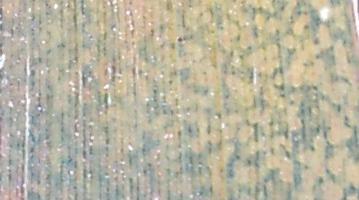tarspot: (1, 6, 5, 31), (1, 40, 5, 57), (176, 35, 183, 42)
